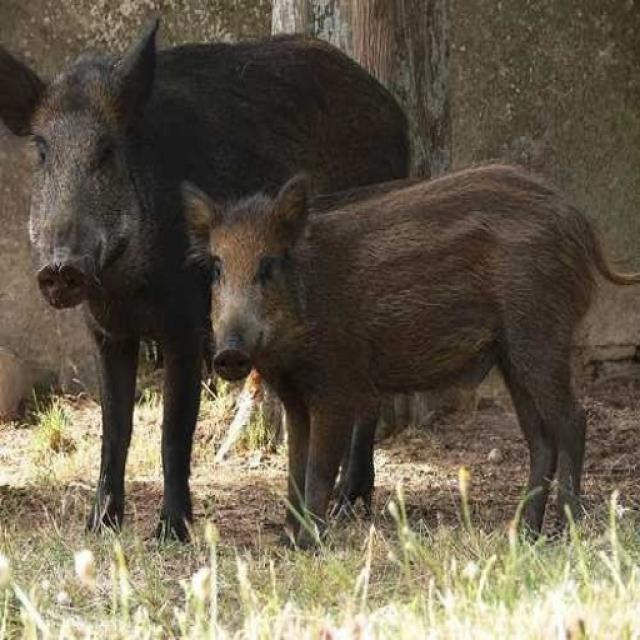pig: (2, 2, 486, 457), (183, 148, 639, 532)
